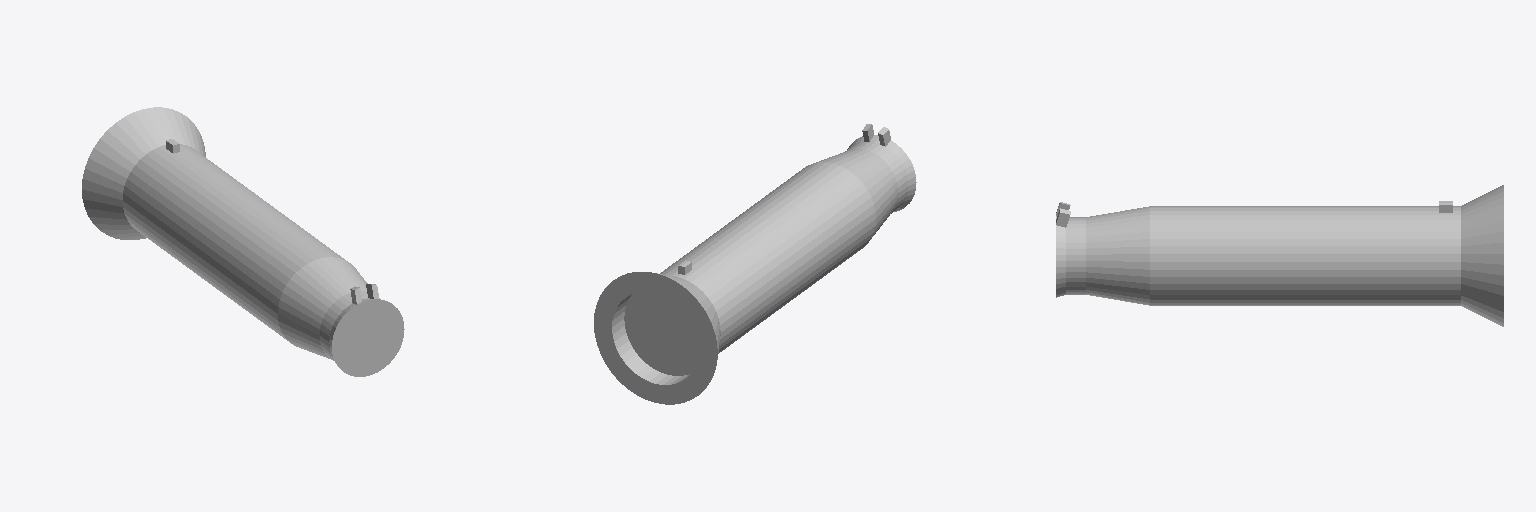
Rendered from ROCKET_JUMPER.obj.
3 renders of one model, left to right at view 1: azimuth 30°, elevation 25°; view 2: azimuth 150°, elevation 25°; view 3: azimuth 270°, elevation 25°, orthographic.
Visible parts, largest first — view 1: Cylinder; view 2: Cylinder; view 3: Cylinder.
Part boxes in pixels (x1,y1,x2,y2): Cylinder: (82, 107, 404, 376); Cylinder: (594, 124, 916, 404); Cylinder: (1056, 185, 1503, 326).
Bounding box in the file's own units: 3.59 × 3.59 × 11.23.